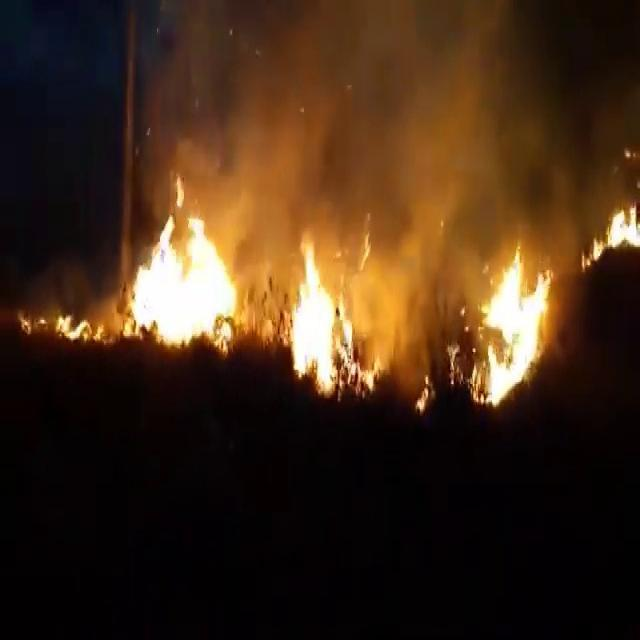Fire: (144, 230, 220, 332), (492, 289, 540, 367), (296, 298, 338, 387)
